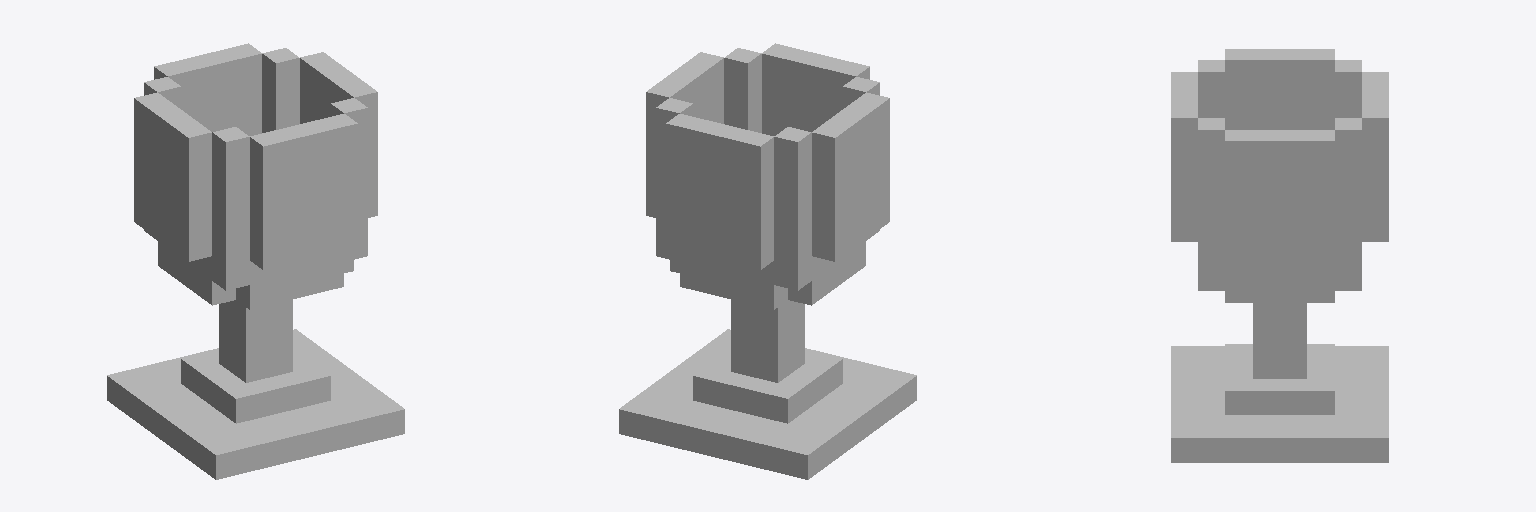
File: trophy.obj
3 views of the same model, side by side, from view 1: azimuth 30°, elevation 25°; view 2: azimuth 150°, elevation 25°; view 3: azimuth 270°, elevation 25° (orthographic).
Parts seen in each view (by area): view 1: object 1; view 2: object 1; view 3: object 1.
Part boxes in pixels (x1,y1,x2,y2): object 1: (107, 43, 404, 479); object 1: (619, 43, 916, 479); object 1: (1171, 49, 1388, 462).
Size of the model in its own units: 0.8 by 1.3 by 0.8.